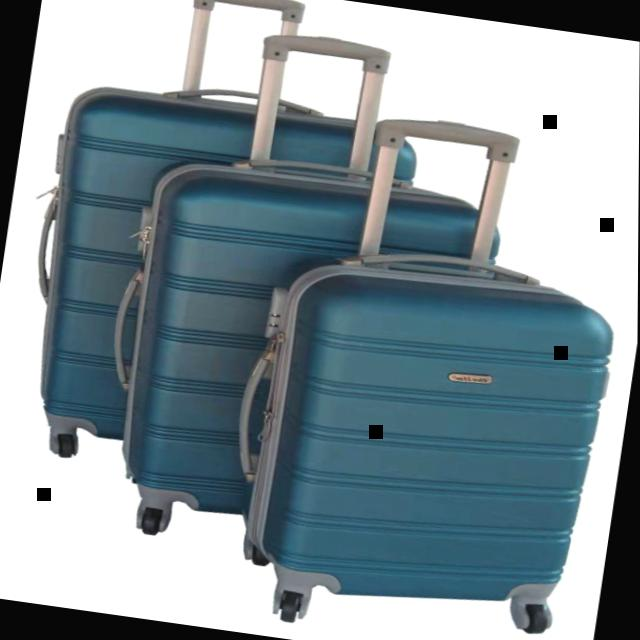luggage: (80, 134, 519, 582), (9, 59, 428, 498), (207, 222, 639, 640)
